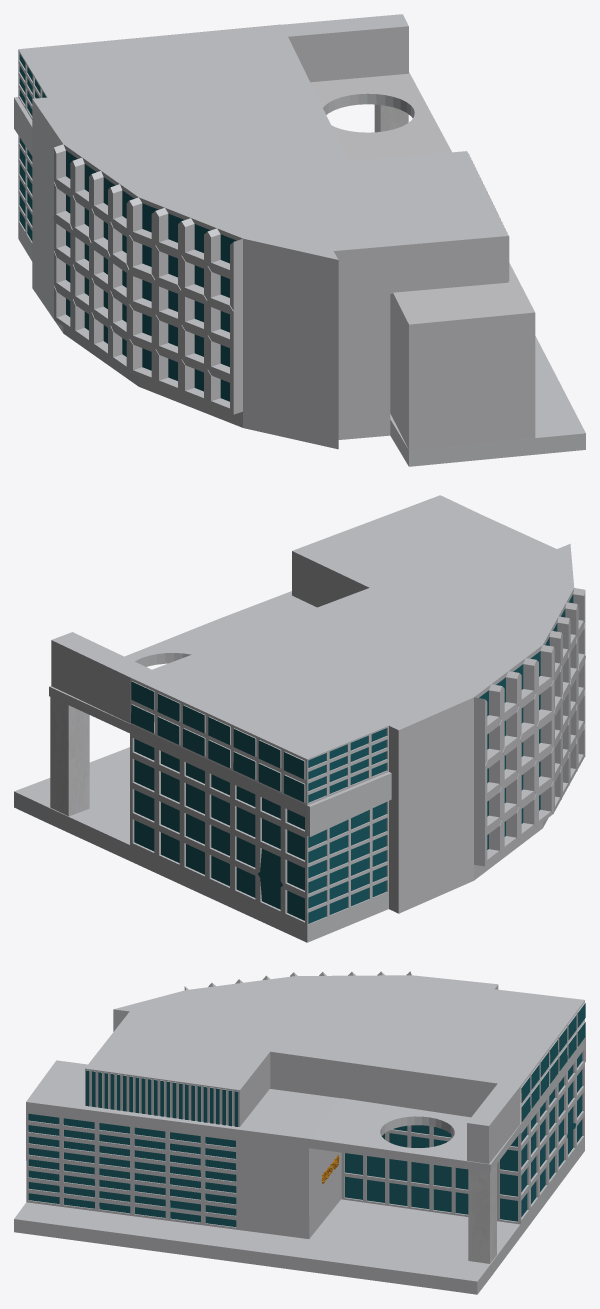
Rendered from library_embedded.fbx.
3 views of the same model, one above another, from view 1: azimuth 30°, elevation 25°; view 2: azimuth 150°, elevation 25°; view 3: azimuth 270°, elevation 25° (orthographic). The views are drawn at different scales.
Visible parts, largest first — view 1: Plane; view 2: Plane, Plane.003; view 3: Plane, Plane.003.
Boxes of the visible parts, x1=… form: Plane: x1=14, y1=14, x2=585, y2=466; Plane: x1=14, y1=495, x2=585, y2=942; Plane.003: x1=130, y1=678, x2=307, y2=805; Plane: x1=14, y1=971, x2=585, y2=1294; Plane.003: x1=520, y1=1000, x2=584, y2=1124.
Size of the model in its own units: 1900 by 773 by 2656.
Materials: 4 (2 with a texture image).
